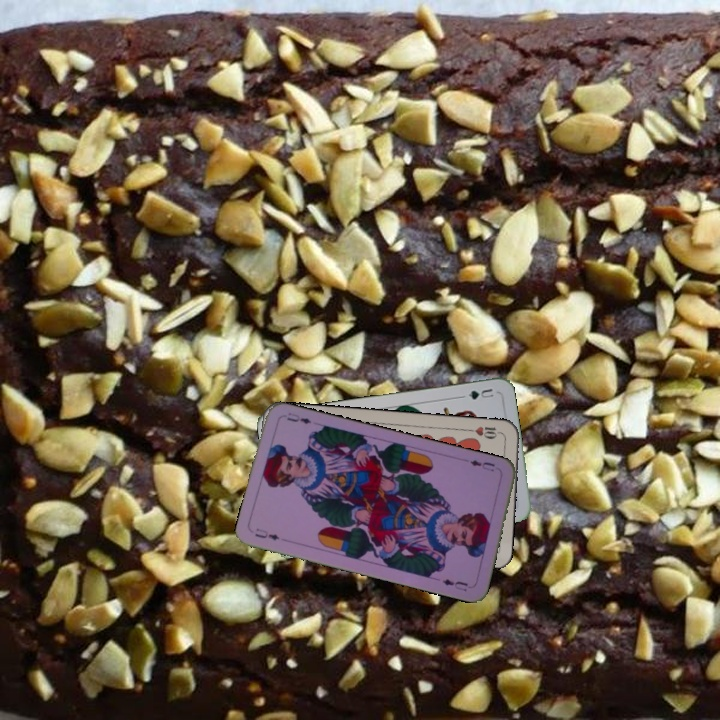EU: (251, 524, 282, 543), (466, 456, 498, 474)
GU: (464, 384, 496, 402)
H10: (464, 422, 505, 441)
